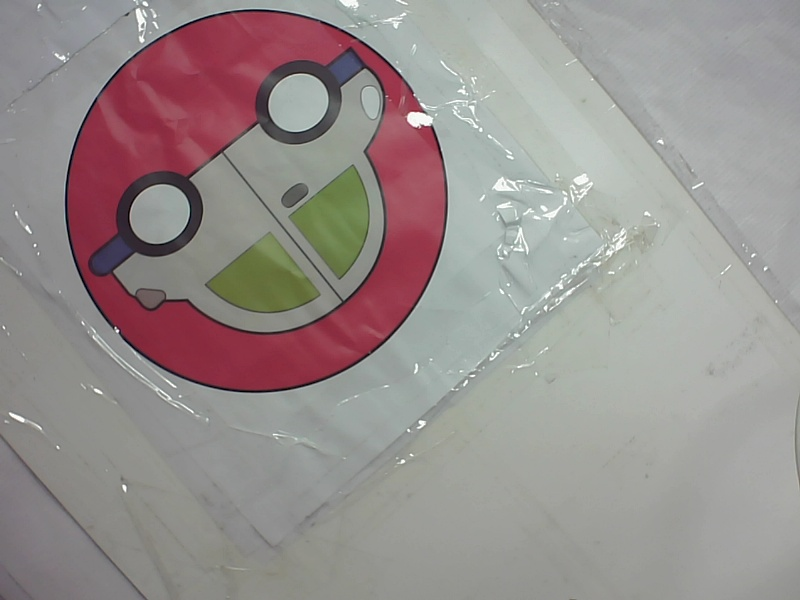areaC: (52, 10, 460, 396)
